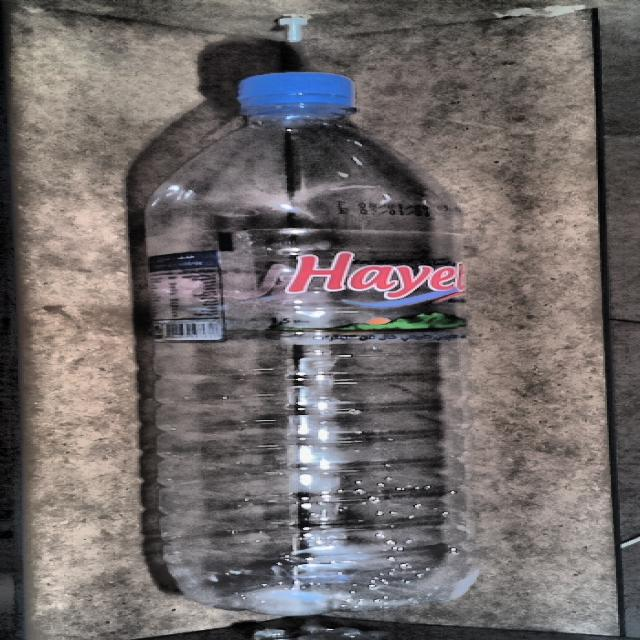plastic bottle: (144, 72, 477, 616)
